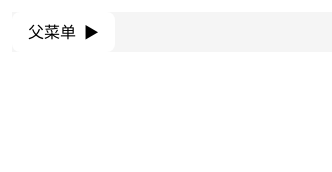
ToolbarMenu › 子菜单 › 应该折叠子菜单
Click the text "父菜单" at (52, 32), box [28,20,76,44]
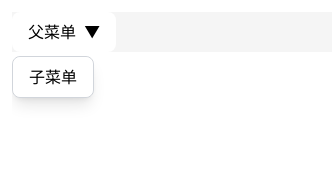
Click the text "父菜单" at (52, 32), box [28,20,76,44]
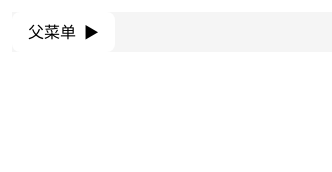
Now the button "子菜单" is gone
